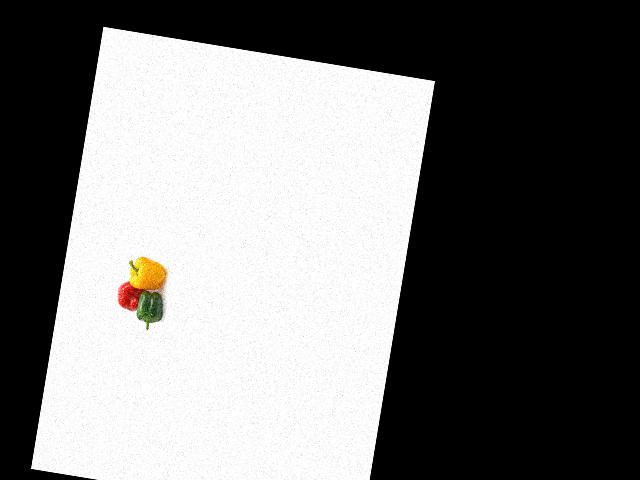bell_pepper: (130, 282, 167, 328)
